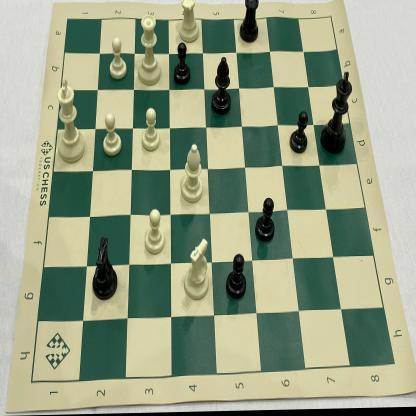black-bishop: (208, 53, 233, 118)
black-king: (319, 71, 355, 161)
black-pawn: (224, 251, 249, 303), (253, 194, 277, 248), (289, 111, 310, 161), (172, 40, 194, 87)
black-rook: (237, 0, 262, 49)
white-bishop: (178, 139, 205, 208)
white-king: (53, 74, 87, 166)
white-knight: (181, 235, 213, 304), (90, 234, 121, 305)
white-pawn: (142, 203, 167, 259), (99, 112, 125, 161), (139, 106, 163, 157), (107, 35, 130, 84)
white-queen: (137, 11, 163, 90)
white-rook: (177, 0, 201, 48)
